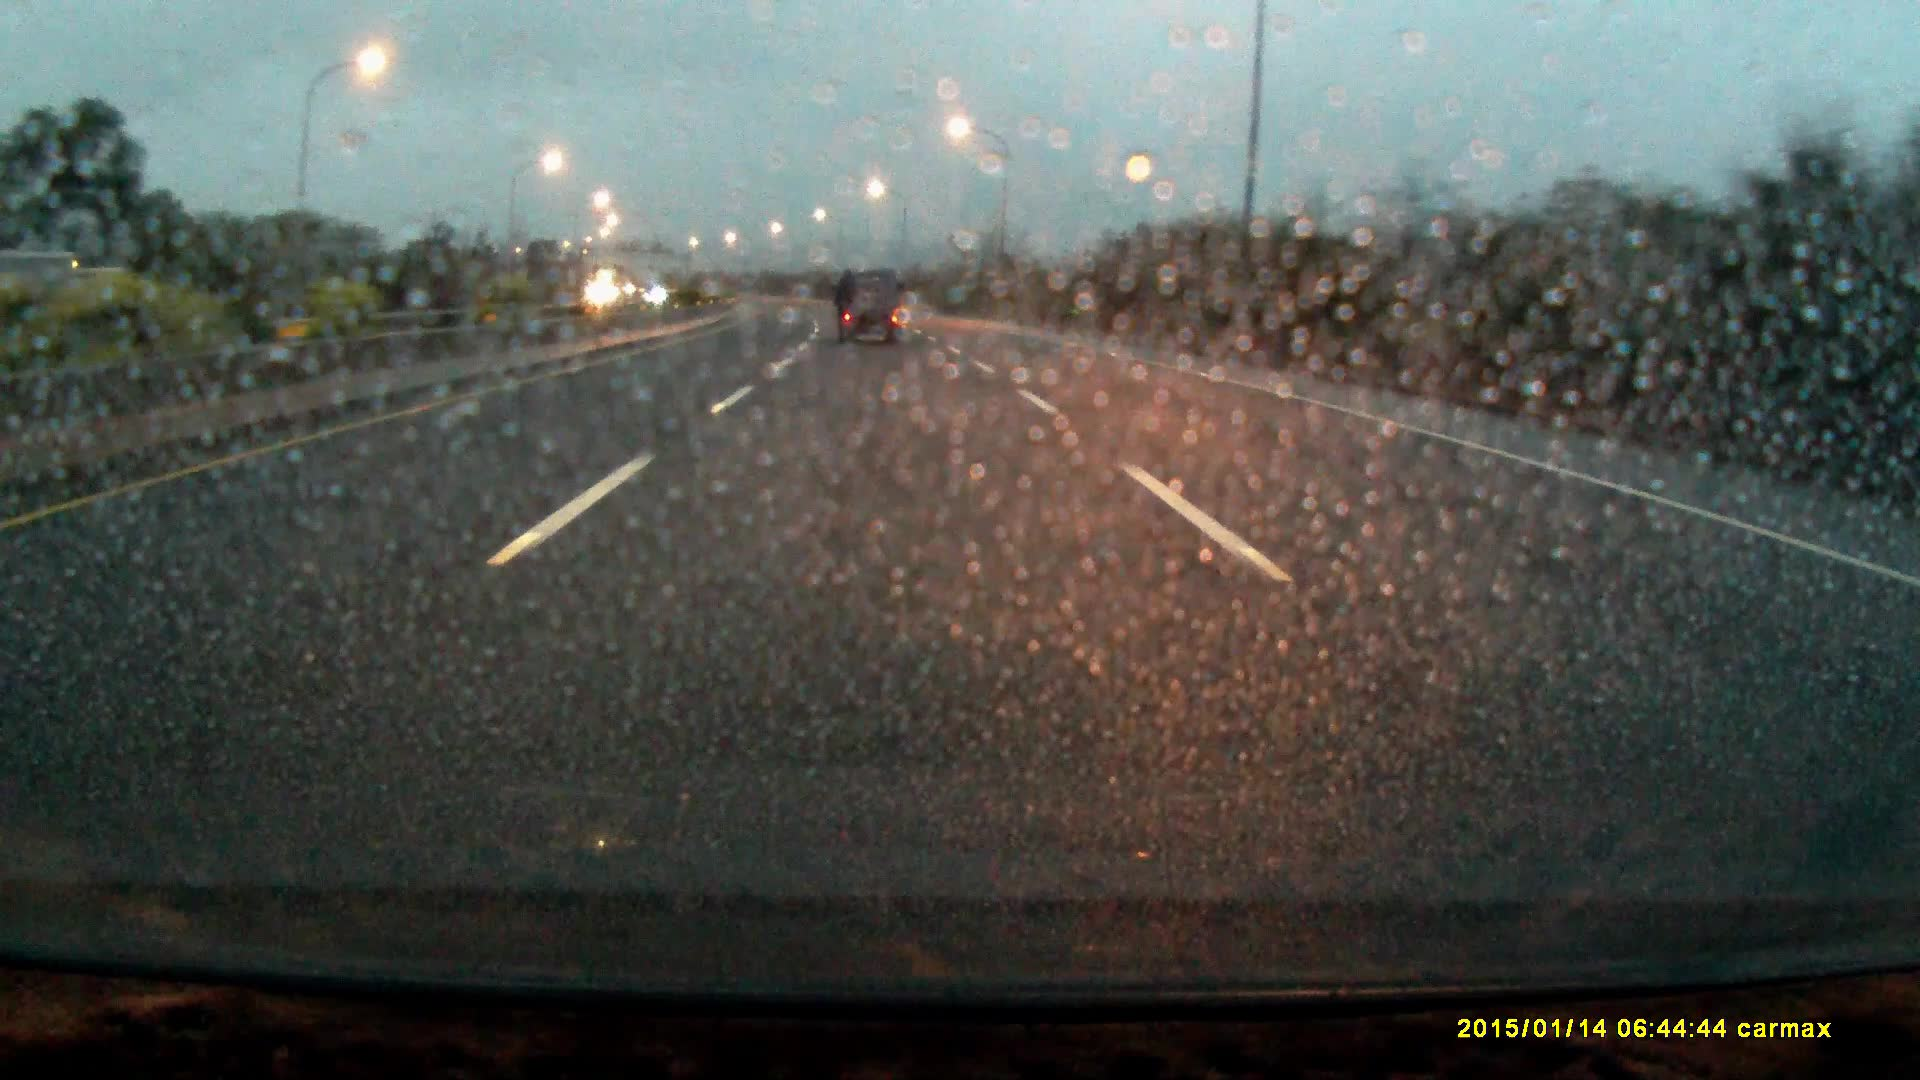vehicle: (835, 276, 905, 353)
